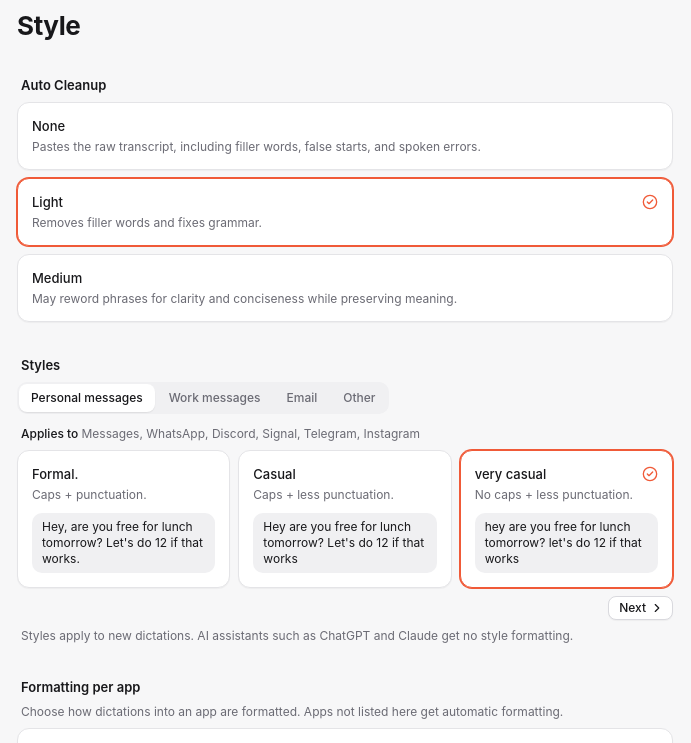
Test: StylePage › shows a rejected save
The image size is (691, 743).
Click the radio button labelled "Medium" at coordinates (345, 288), box top-left (17, 254), bottom-right (673, 322)
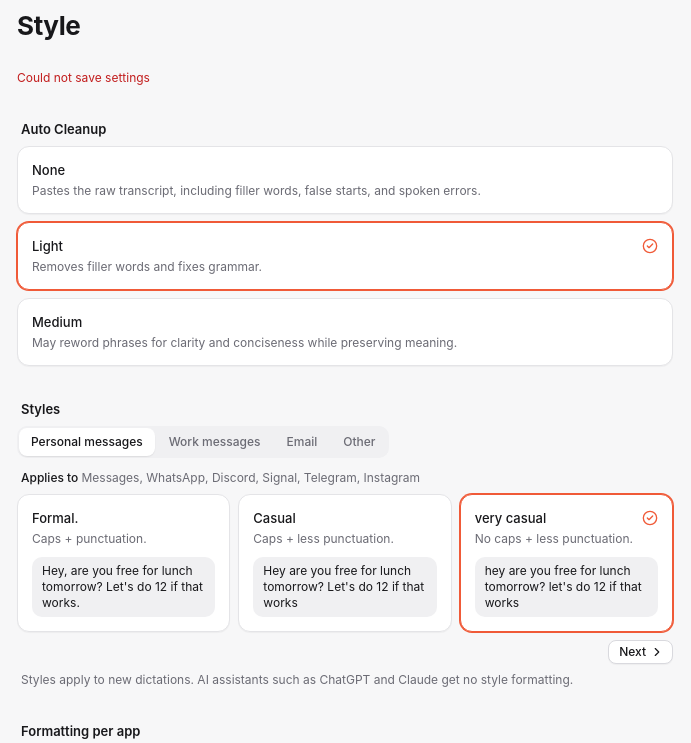
Result: the message reads "Could not save settings" at top-left (17, 70), bottom-right (150, 85)
